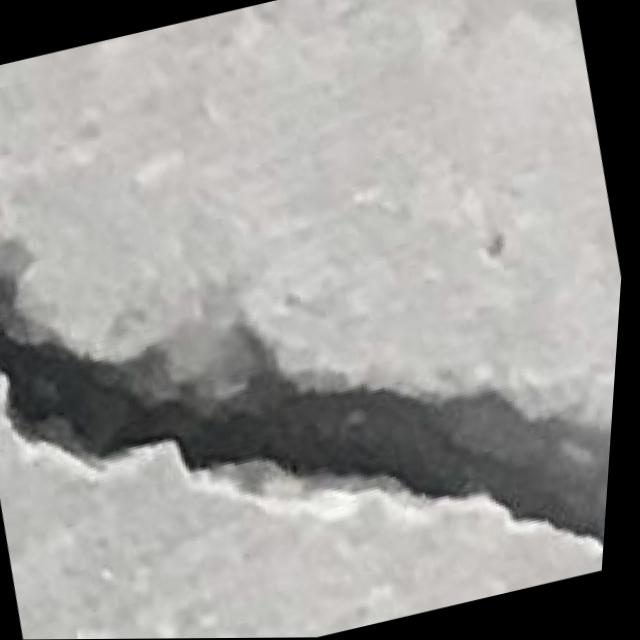Crack: (0, 82, 635, 640)
